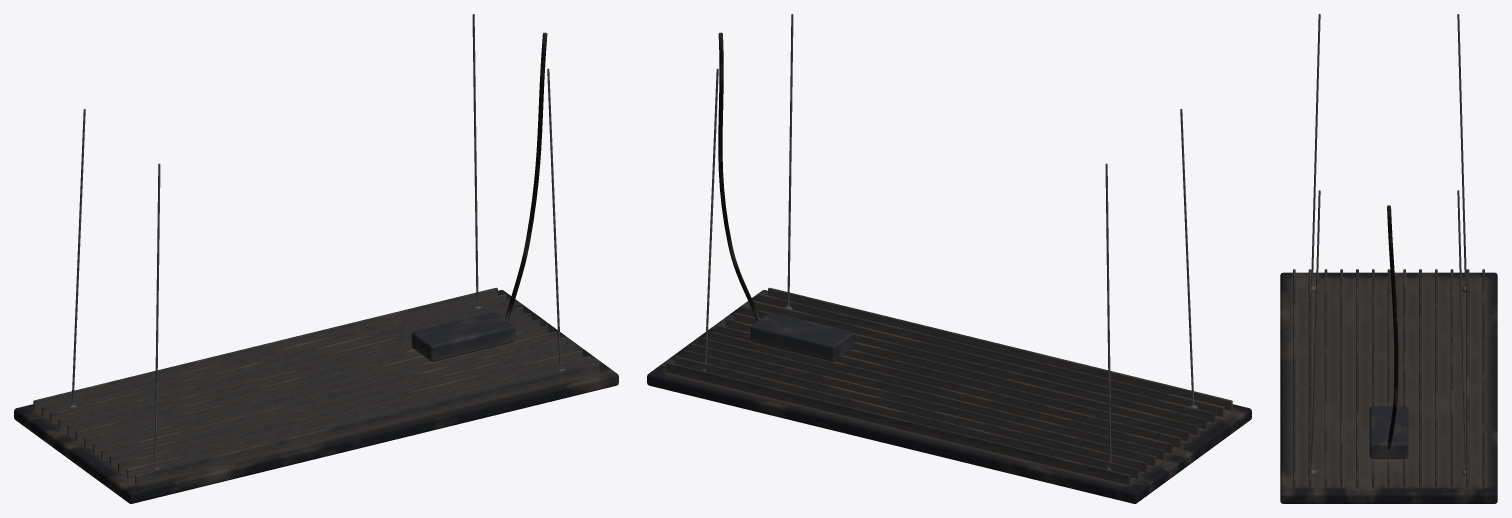
The model's file is lampa_led.glb.
3 renders of one model, left to right at view 1: azimuth 30°, elevation 25°; view 2: azimuth 150°, elevation 25°; view 3: azimuth 270°, elevation 25°, orthographic. The views are drawn at different scales.
Parts seen in each view (by area): view 1: Lampa; view 2: Lampa; view 3: Lampa.
Part boxes in pixels (x1,y1,x2,y2): Lampa: (14,14,618,503); Lampa: (647,14,1251,503); Lampa: (1280,14,1497,503).
Bounding box in the file's own units: 1.5 × 0.9284 × 0.62.
3 materials, 1 textured.
